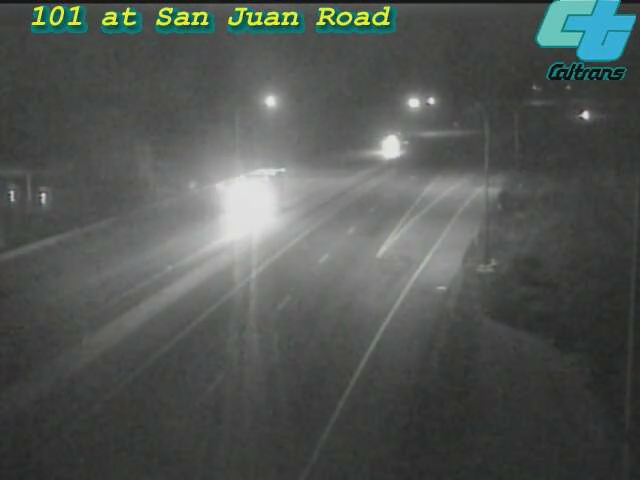vehicle: (204, 158, 284, 238), (369, 119, 419, 169), (558, 90, 608, 140)
